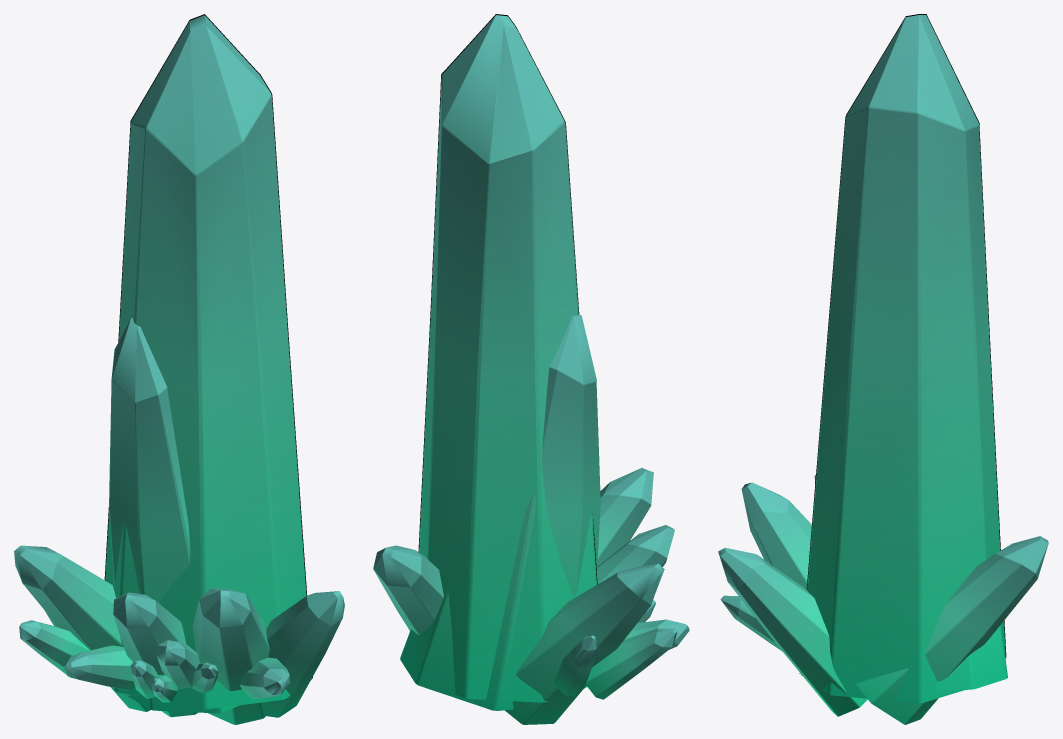
Rendered from Crystal_Cluster.optimized.glb.
The picture shows the model from 3 angles, left to right: view 1: azimuth 30°, elevation 25°; view 2: azimuth 150°, elevation 25°; view 3: azimuth 270°, elevation 25°; orthographic projection.
Visible parts, largest first — view 1: Crystal_Cluster; view 2: Crystal_Cluster; view 3: Crystal_Cluster.
Part boxes in pixels (x1,y1,x2,y2): Crystal_Cluster: (14, 14, 344, 724); Crystal_Cluster: (373, 14, 689, 724); Crystal_Cluster: (718, 14, 1048, 724).
Size of the model in its own units: 6.23 by 15.47 by 6.76.
Materials: 2 (1 with a texture image).
